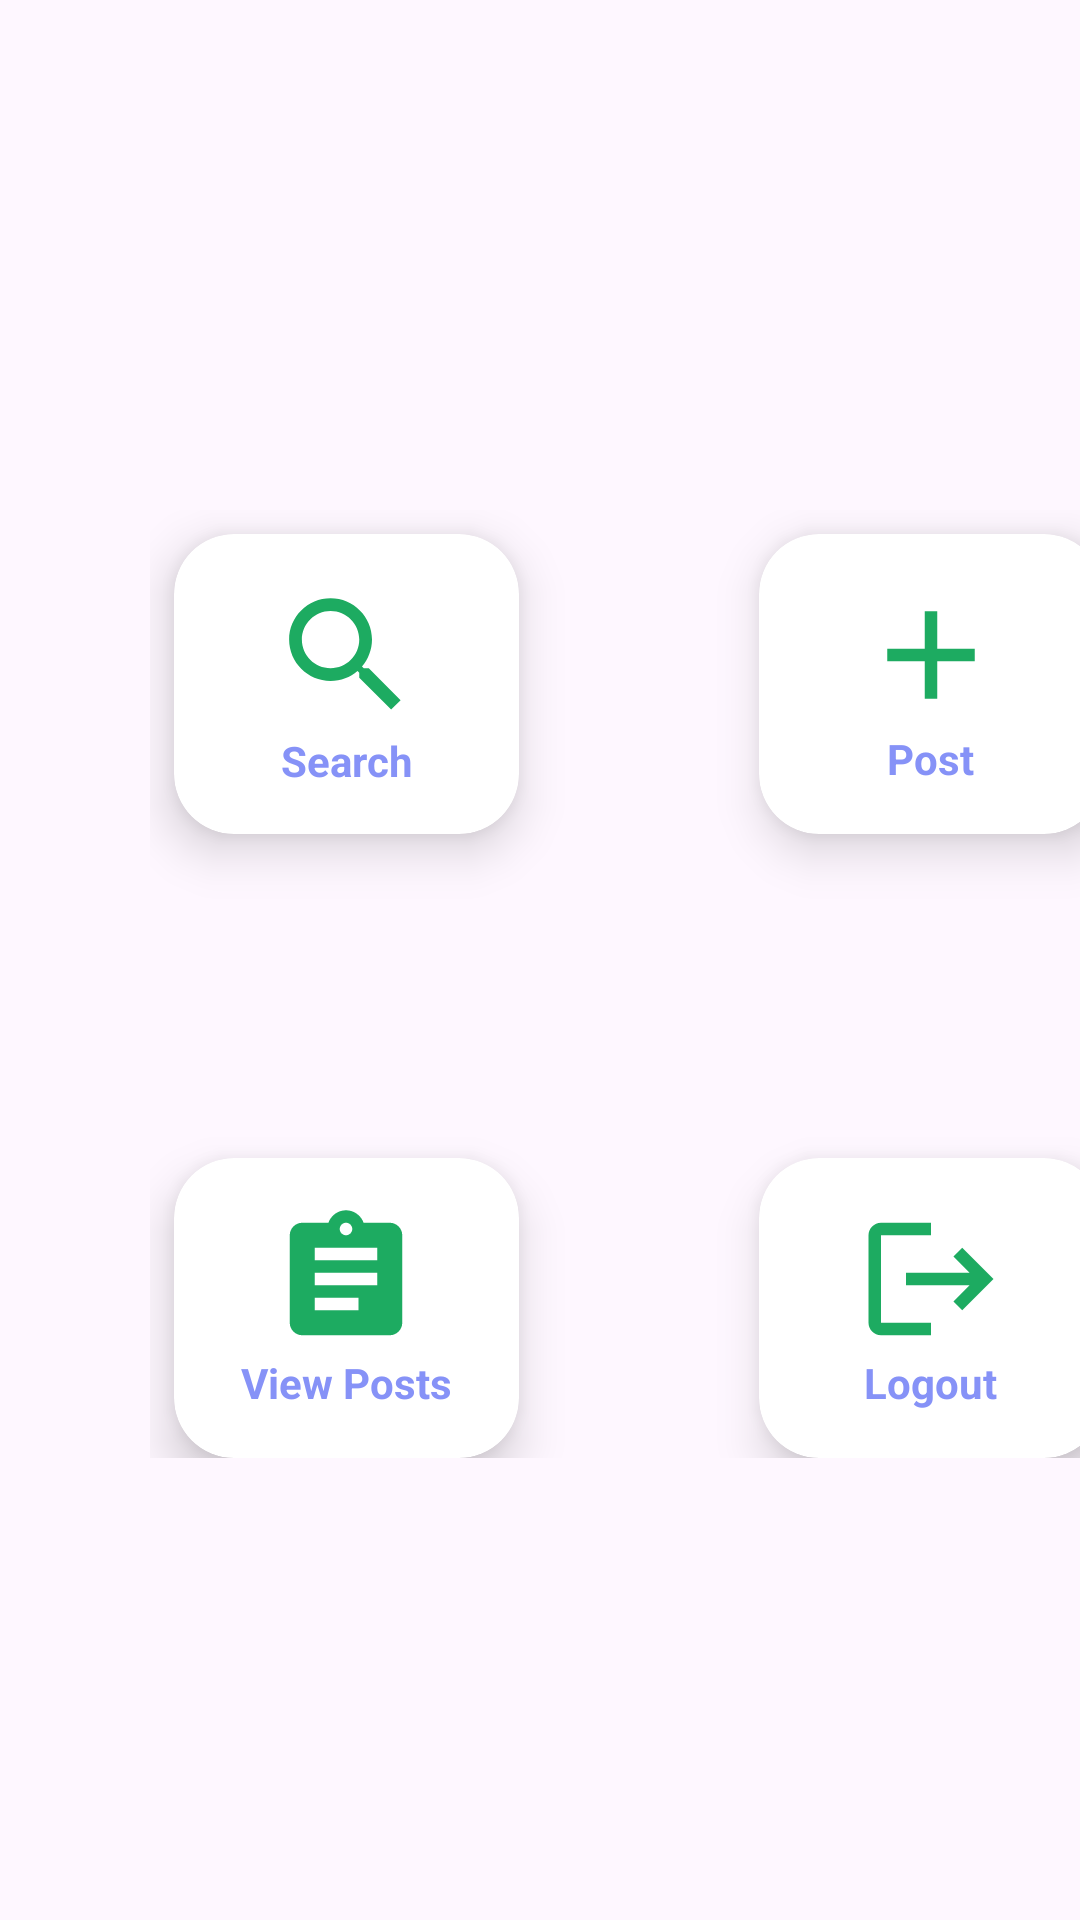

Locate icon controls on the screen. Image size 1080px×1920px, boxes as detection(x1, y1, x2, y2).
add: detection(887, 611, 975, 699)
assignment: detection(289, 1210, 403, 1336)
